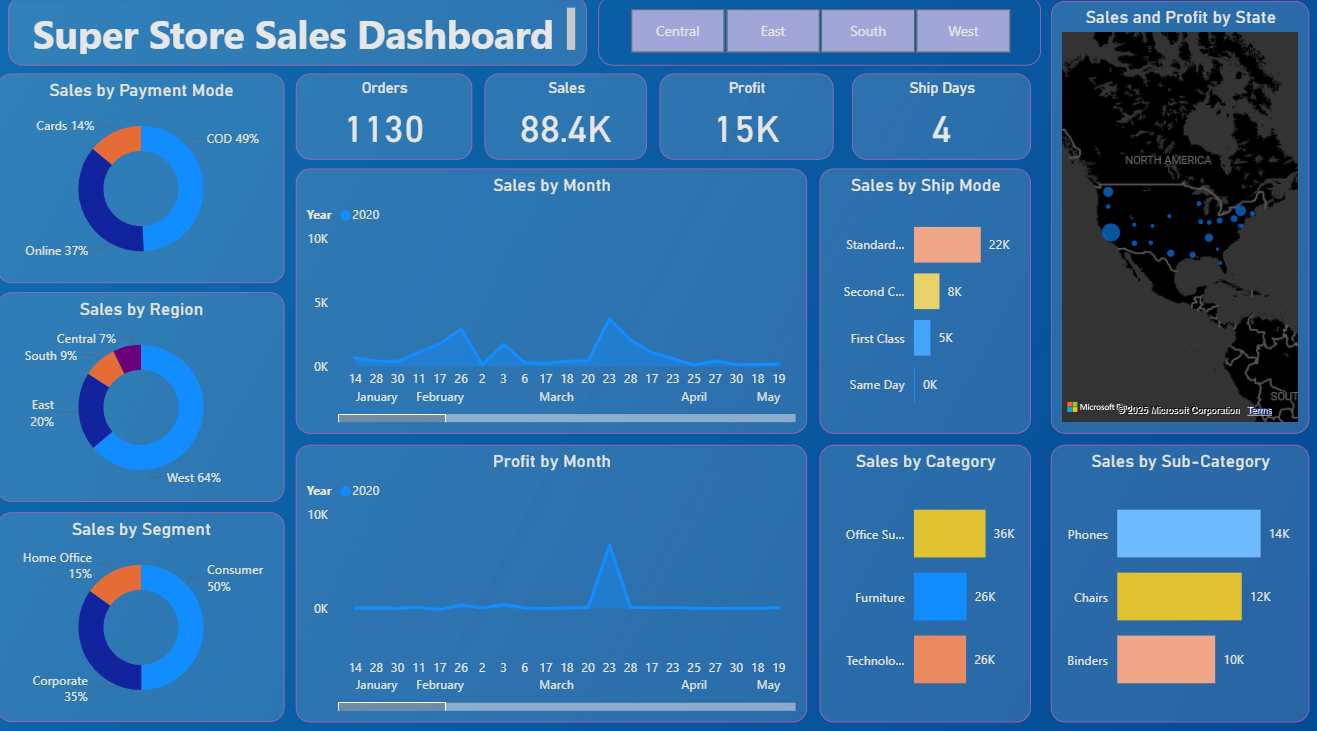

The dashboard page shown, as its layout file describes it:
{"tool":"powerbi","page":{"name":"Page 1","canvas":[1280,720],"ordinal":0},"visuals":[{"type":"clusteredBarChart","title":" Sales by Category","fields":{"Category":["SuperStore_Sales_Dataset (1).Category"],"Y":["Sum(SuperStore_Sales_Dataset (1).Sales)"]},"box":[793.8,433.1,203.9,267.8],"z":0},{"type":"clusteredBarChart","title":" Sales by Sub-Category","fields":{"Y":["Sum(SuperStore_Sales_Dataset (1).Sales)"],"Category":["SuperStore_Sales_Dataset (1).Sub-Category"]},"box":[1017,433.1,249.7,267.8],"z":1},{"type":"clusteredBarChart","title":" Sales by Ship Mode","fields":{"Y":["Sum(SuperStore_Sales_Dataset (1).Sales)"],"Category":["SuperStore_Sales_Dataset (1).Ship Mode"]},"box":[793.8,166.5,203.9,255.8],"z":2},{"type":"stackedAreaChart","title":"Sales by Month","fields":{"Y":["Sum(SuperStore_Sales_Dataset (1).Sales)"],"Category":["SuperStore_Sales_Dataset (1).Order Date.Variation.Date Hierarchy.Month","SuperStore_Sales_Dataset (1).Order Date.Variation.Date Hierarchy.Day"],"Series":["SuperStore_Sales_Dataset (1).Order Date.Variation.Date Hierarchy.Year"]},"box":[288.3,166.5,493.4,255.8],"z":3},{"type":"stackedAreaChart","title":"Profit by Month","fields":{"Category":["SuperStore_Sales_Dataset (1).Order Date.Variation.Date Hierarchy.Month","SuperStore_Sales_Dataset (1).Order Date.Variation.Date Hierarchy.Day"],"Series":["SuperStore_Sales_Dataset (1).Order Date.Variation.Date Hierarchy.Year"],"Y":["Sum(SuperStore_Sales_Dataset (1).Profit)"]},"box":[288.3,433.1,493.4,267.8],"z":4},{"type":"map","title":"Sales and Profit by State","fields":{"Category":["SuperStore_Sales_Dataset (1).State"],"Size":["Sum(SuperStore_Sales_Dataset (1).Sales)"]},"box":[1017,4.8,249.7,417.4],"z":5},{"type":"donutChart","title":"Sales by Segment","fields":{"Category":["SuperStore_Sales_Dataset (1).Segment"],"Y":["Sum(SuperStore_Sales_Dataset (1).Sales)"]},"box":[0,498.3,277.5,202.7],"z":6},{"type":"donutChart","title":"Sales by Payment Mode","fields":{"Y":["Sum(SuperStore_Sales_Dataset (1).Sales)"],"Category":["SuperStore_Sales_Dataset (1).Payment Mode"]},"box":[0,74.8,277.5,202.7],"z":7},{"type":"slicer","fields":{"Values":["SuperStore_Sales_Dataset (1).Region"]},"box":[580.3,0,427.1,67.6],"z":8},{"type":"textbox","box":[10.9,0,558.6,67.6],"z":9},{"type":"card","title":"Orders","fields":{"Values":["Sum(SuperStore_Sales_Dataset (1).Quantity)"]},"box":[288.3,74.8,170.1,83.2],"z":10},{"type":"card","title":"Profit","fields":{"Values":["Sum(SuperStore_Sales_Dataset (1).Profit)"]},"box":[639.4,74.8,167.7,83.2],"z":11},{"type":"card","title":"Sales","fields":{"Values":["Sum(SuperStore_Sales_Dataset (1).Sales)"]},"box":[470.5,74.8,156.8,83.2],"z":12},{"type":"card","title":"Ship Days","fields":{"Values":["Avg(SuperStore_Sales_Dataset (1).AvgDelivery)"]},"box":[825.2,74.8,172.5,83.2],"z":13},{"type":"donutChart","title":"Sales by Region","fields":{"Category":["SuperStore_Sales_Dataset (1).Region"],"Y":["Sum(SuperStore_Sales_Dataset (1).Sales)"]},"box":[0,285.9,277.5,202.7],"z":14}]}

Visuals, with their boxes in screenshot pixels (x1, y1, x2, y2), scaled from the page's 1280x720 canvas onto the 1317x731 screenshot:
" Sales by Category" clusteredBarChart: (817,440,1027,712)
" Sales by Sub-Category" clusteredBarChart: (1046,440,1303,712)
" Sales by Ship Mode" clusteredBarChart: (817,169,1027,429)
"Sales by Month" stackedAreaChart: (297,169,804,429)
"Profit by Month" stackedAreaChart: (297,440,804,712)
"Sales and Profit by State" map: (1046,5,1303,429)
"Sales by Segment" donutChart: (0,506,286,712)
"Sales by Payment Mode" donutChart: (0,76,286,282)
slicer - SuperStore_Sales_Dataset (1).Region: (597,0,1037,69)
textbox: (11,0,586,69)
"Orders" card: (297,76,472,160)
"Profit" card: (658,76,830,160)
"Sales" card: (484,76,645,160)
"Ship Days" card: (849,76,1027,160)
"Sales by Region" donutChart: (0,290,286,496)
